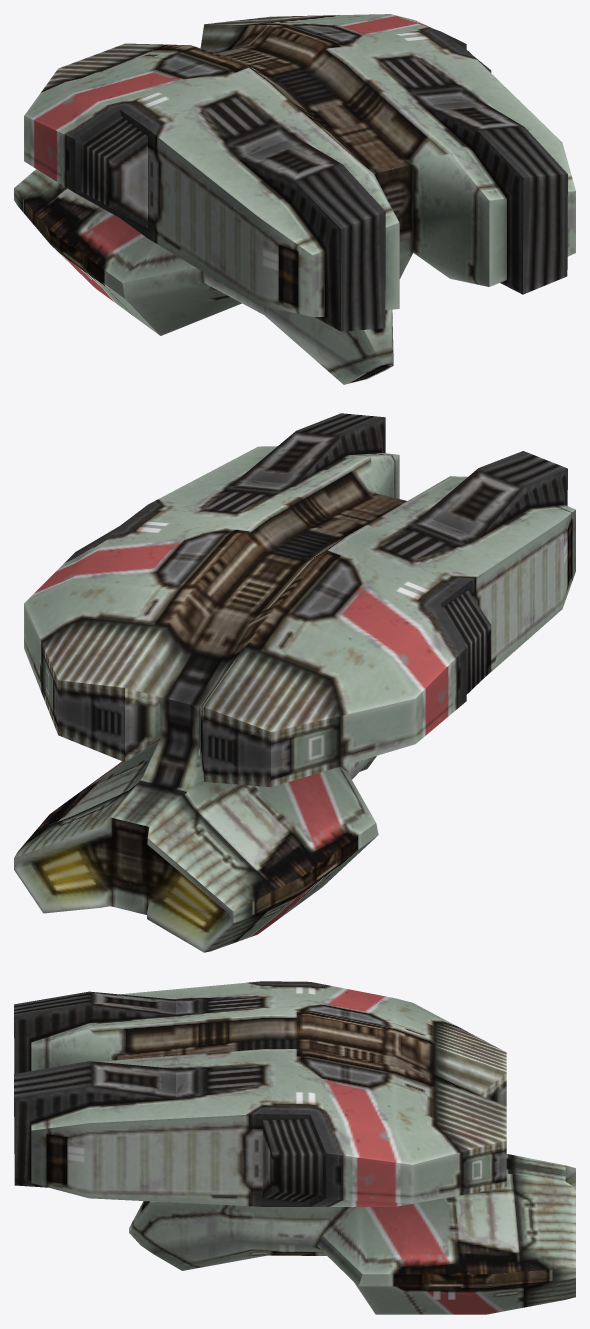
The model's file is kpr_mover_01.glb.
3 renders of one model, top to bottom at view 1: azimuth 30°, elevation 25°; view 2: azimuth 150°, elevation 25°; view 3: azimuth 270°, elevation 25°, orthographic. The views are drawn at different scales.
Parts seen in each view (by area): view 1: kpr_mover_01_LOD0; view 2: kpr_mover_01_LOD0; view 3: kpr_mover_01_LOD0.
Part boxes in pixels (x1,y1,x2,y2): kpr_mover_01_LOD0: (14, 14, 575, 384); kpr_mover_01_LOD0: (14, 413, 575, 952); kpr_mover_01_LOD0: (14, 981, 575, 1314).
Size of what is drawn, in the model's own units: 0.4895 by 0.3495 by 0.7167.
1 material, 1 textured.
